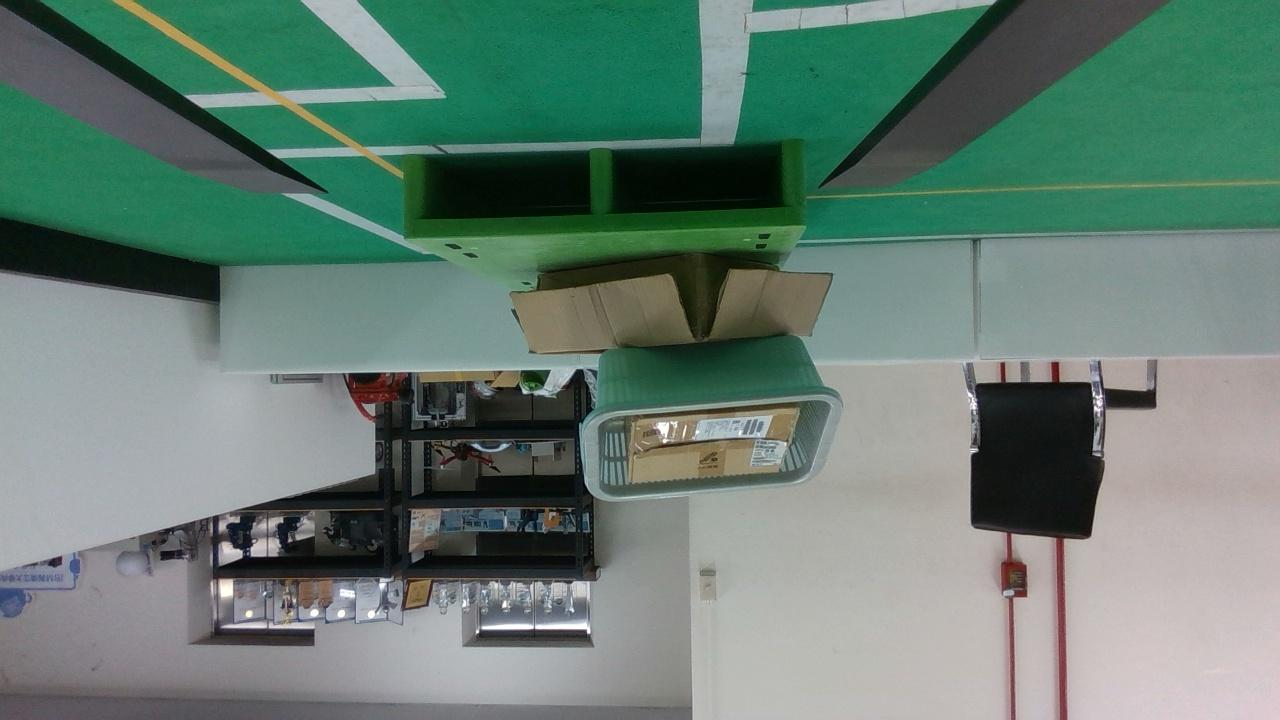Pallet: (401, 138, 810, 240)
